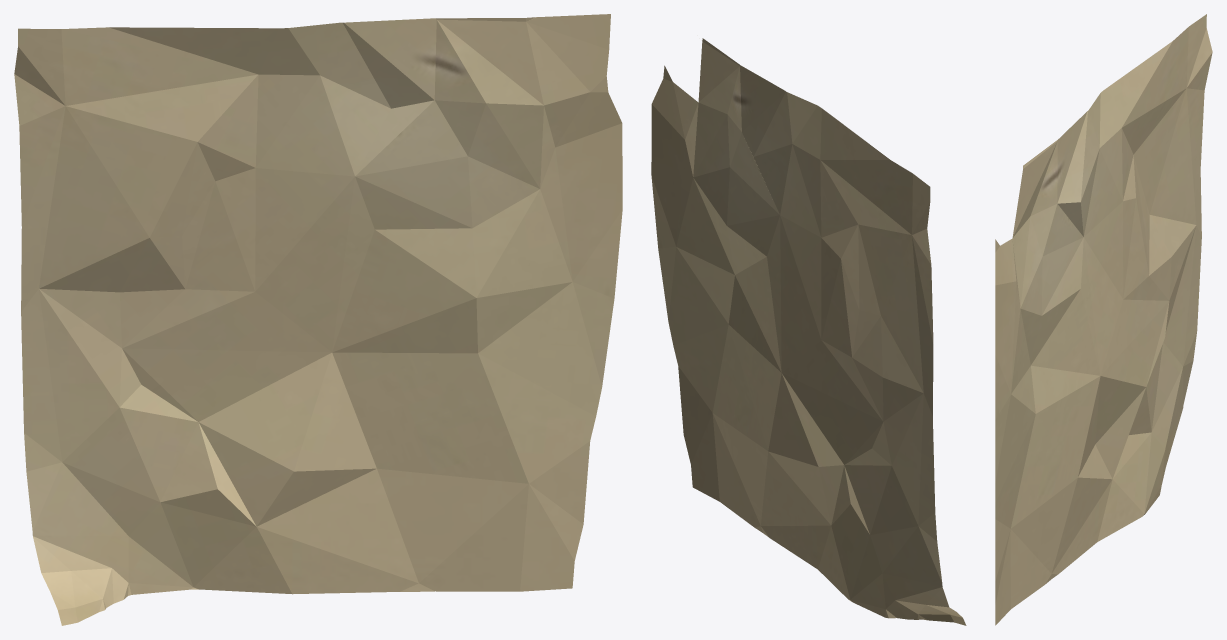
The picture shows the model from 3 angles, left to right: view 1: azimuth 30°, elevation 25°; view 2: azimuth 150°, elevation 25°; view 3: azimuth 270°, elevation 25°; orthographic projection. The views are drawn at different scales.
Bounding box in the file's own units: 0.7312 × 0.8374 × 0.3676.
3 materials, 3 textured.
